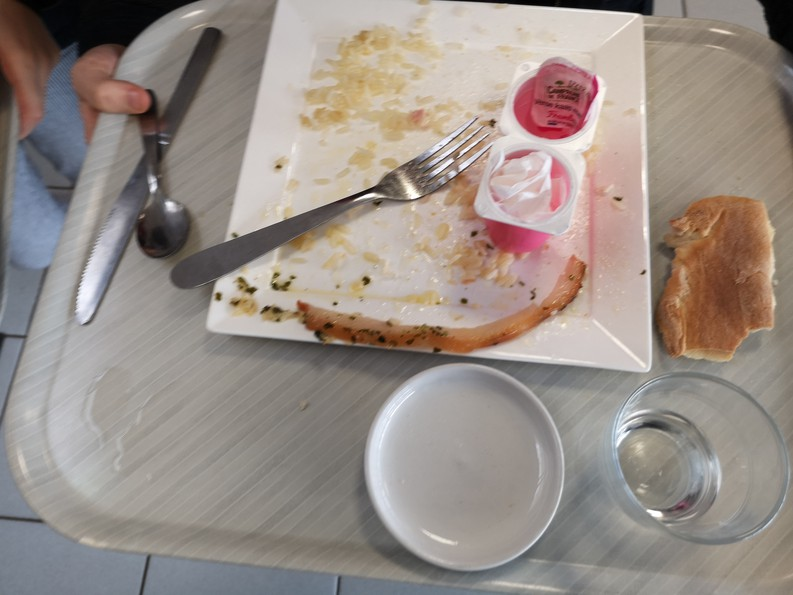cup: (611, 368, 791, 567)
cutlery: (174, 116, 499, 287), (71, 17, 234, 346)
orga: (288, 275, 585, 356), (667, 192, 785, 375)
trash: (492, 59, 598, 246)
